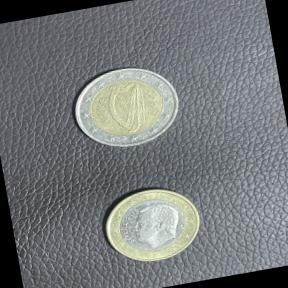1 Euro-B: (94, 177, 207, 272)
2 Euro-B: (61, 56, 189, 159)
